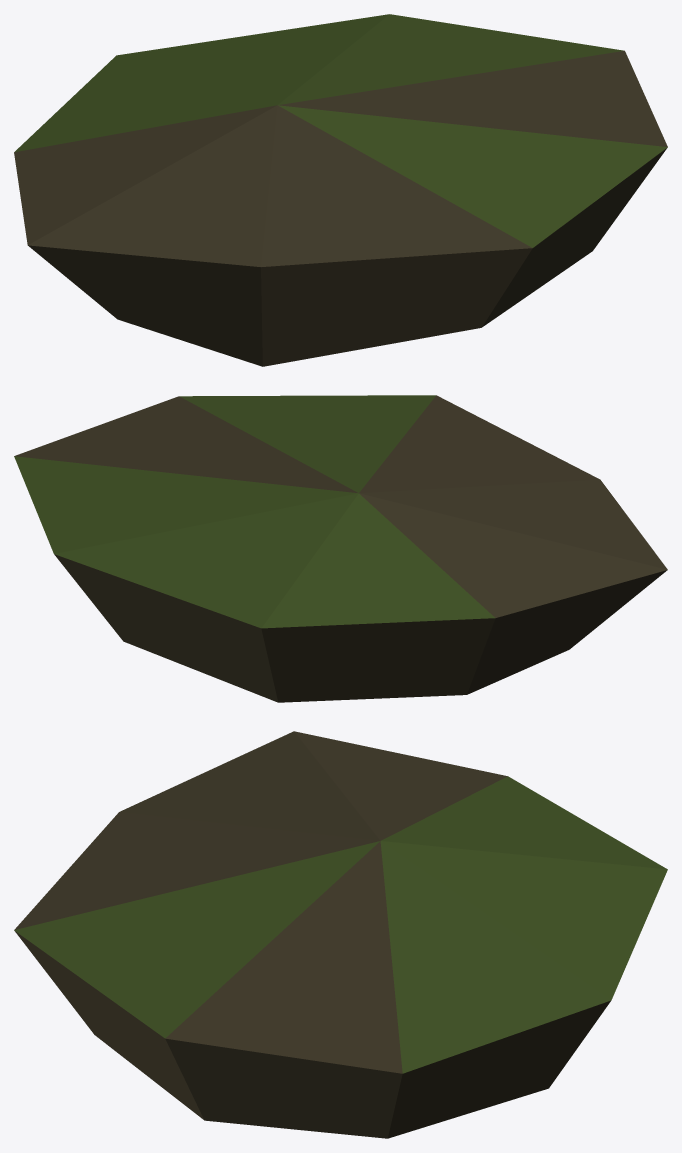
Rendered from detail_005a_algae_stone_low.glb.
The picture shows the model from 3 angles, top to bottom: view 1: azimuth 30°, elevation 25°; view 2: azimuth 150°, elevation 25°; view 3: azimuth 270°, elevation 25°; orthographic projection. The views are drawn at different scales.
Visible parts, largest first — view 1: detail_005a_algae_stone_low__mesh; view 2: detail_005a_algae_stone_low__mesh; view 3: detail_005a_algae_stone_low__mesh.
Boxes of the visible parts, x1,y1,x2,y2 form: detail_005a_algae_stone_low__mesh: (14, 14, 667, 366); detail_005a_algae_stone_low__mesh: (14, 395, 667, 702); detail_005a_algae_stone_low__mesh: (14, 731, 667, 1138).
Size of the model in its own units: 1.56 by 0.33 by 1.26.
